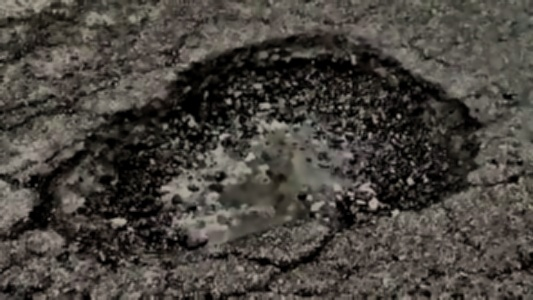pothole: (21, 26, 488, 271)
